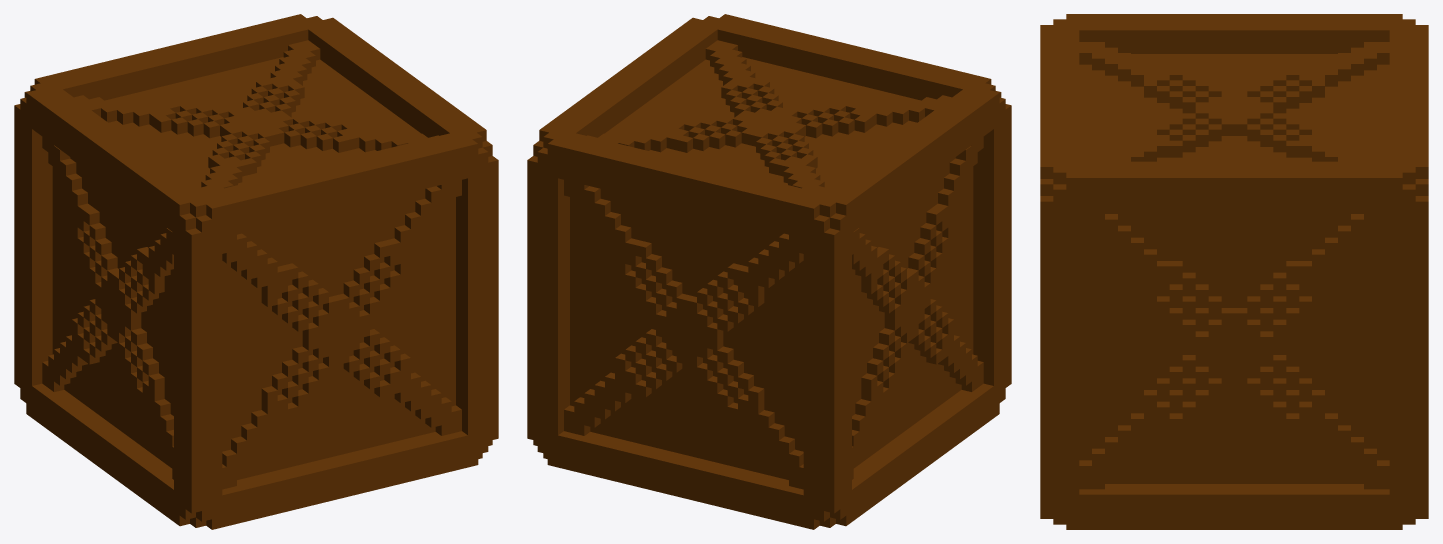
File: crate.obj
3 renders of one model, left to right at view 1: azimuth 30°, elevation 25°; view 2: azimuth 150°, elevation 25°; view 3: azimuth 270°, elevation 25°, orthographic. The views are drawn at different scales.
Bounding box in the file's own units: 30 × 30 × 30.
Materials: 1 (1 with a texture image).
